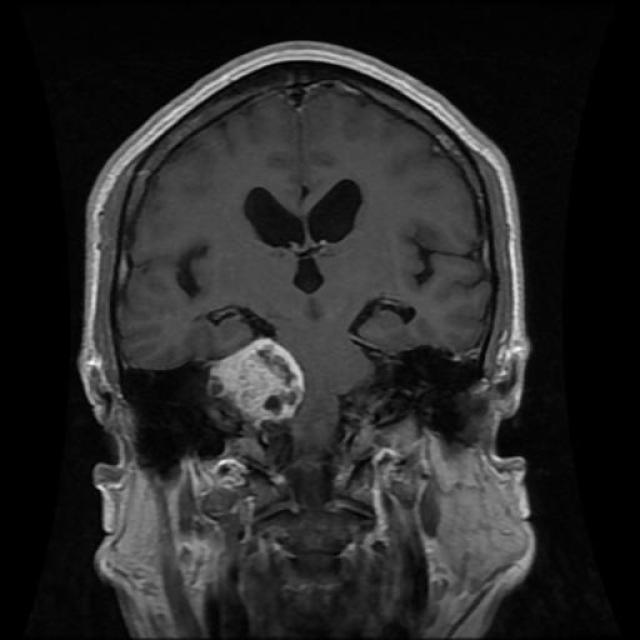meningioma: (211, 338, 305, 419)
